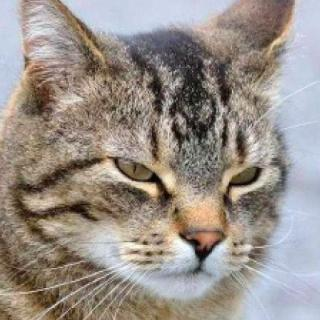cat: (9, 0, 300, 305)
nose: (170, 192, 232, 268)
